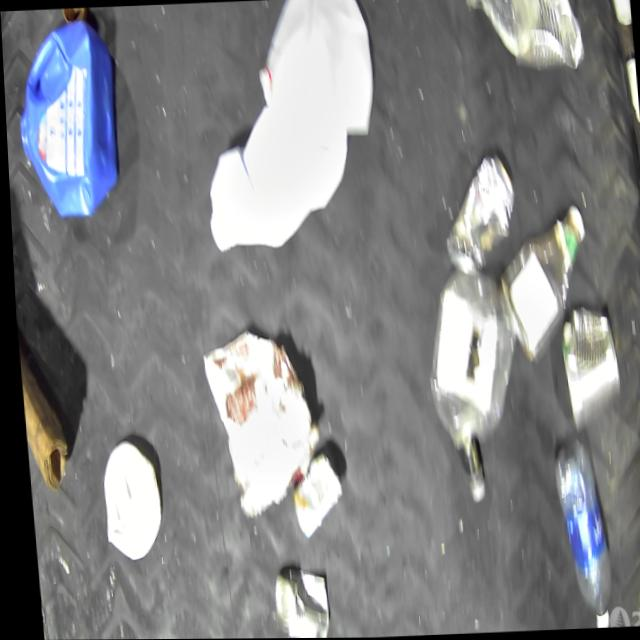can: (436, 152, 519, 273), (553, 303, 620, 432), (505, 0, 584, 75), (265, 568, 324, 639)
milk_jug: (198, 104, 355, 254), (250, 0, 378, 142)
non_white_jug: (9, 18, 127, 221)
plastic_bottle: (546, 435, 609, 630)
